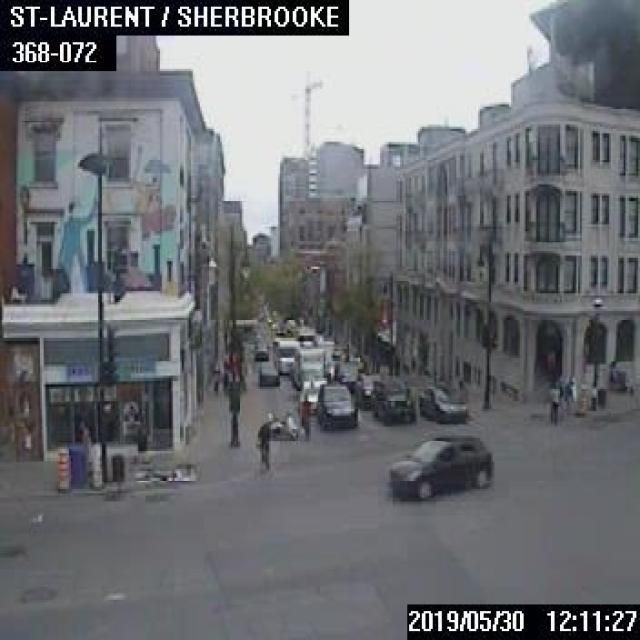construction: (85, 440, 100, 487), (55, 444, 67, 489)
pedestrian: (254, 422, 269, 469), (549, 382, 558, 424)
vehicle: (384, 433, 494, 498), (369, 376, 413, 424), (417, 384, 466, 422), (315, 382, 355, 428), (298, 368, 328, 414), (292, 348, 324, 388), (354, 371, 384, 408), (272, 336, 300, 372), (260, 410, 296, 438), (333, 359, 361, 391), (257, 360, 278, 385), (253, 340, 267, 357)
